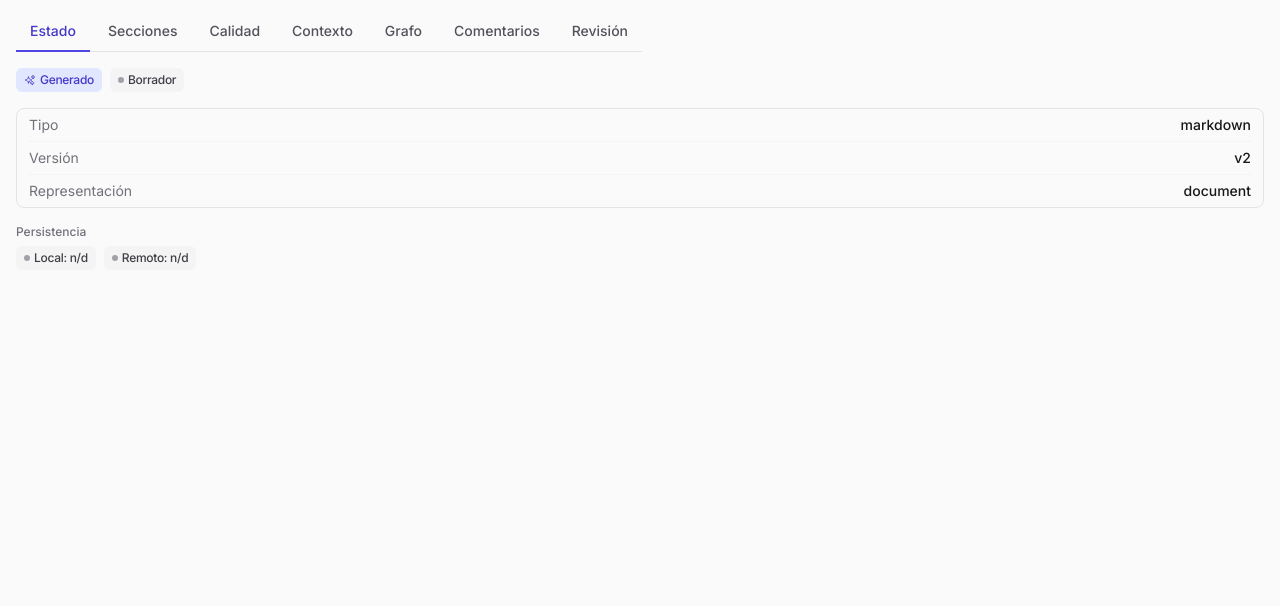
ArtifactInspectorPanel › returns from a section thread to the full outline
Click the tab "Secciones" at (143, 32), box x1=94 y1=12 x2=192 y2=52
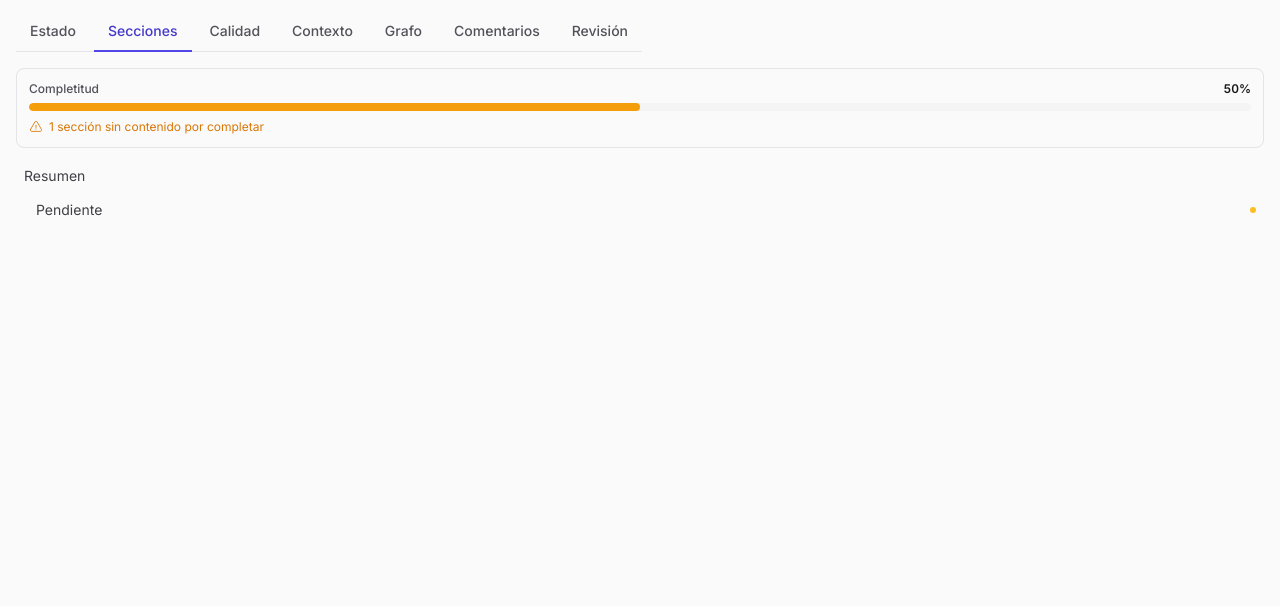
Click the button "Resumen" at (55, 176), box x1=16 y1=160 x2=1264 y2=192
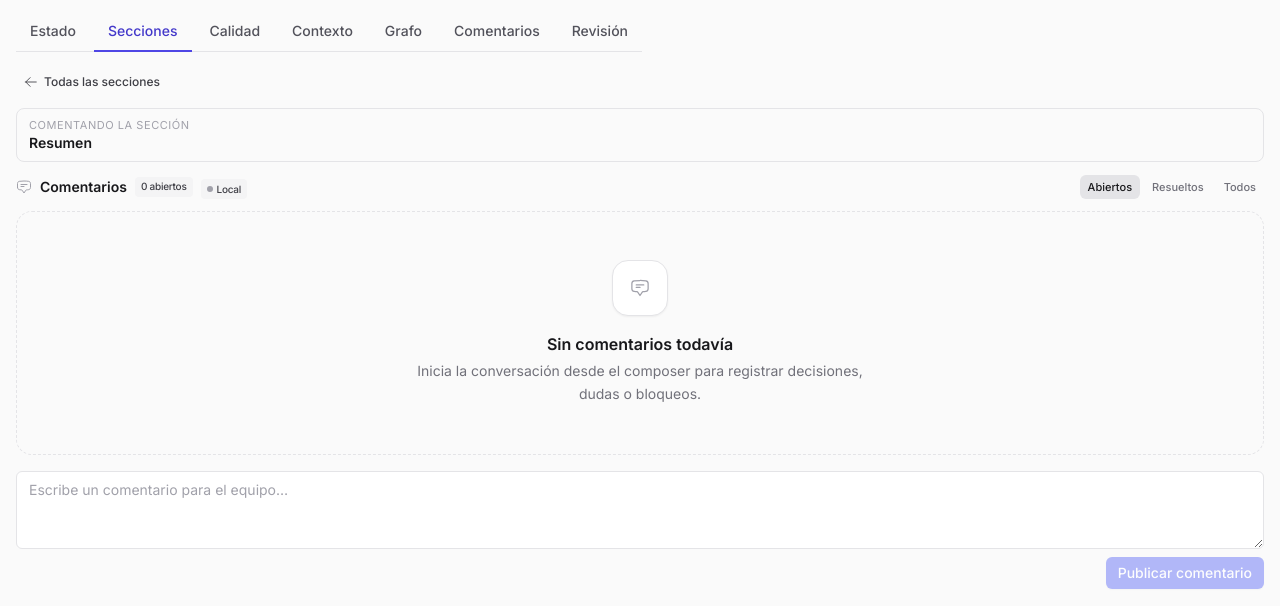
Click the button "Todas las secciones" at (92, 82), box x1=16 y1=68 x2=168 y2=96
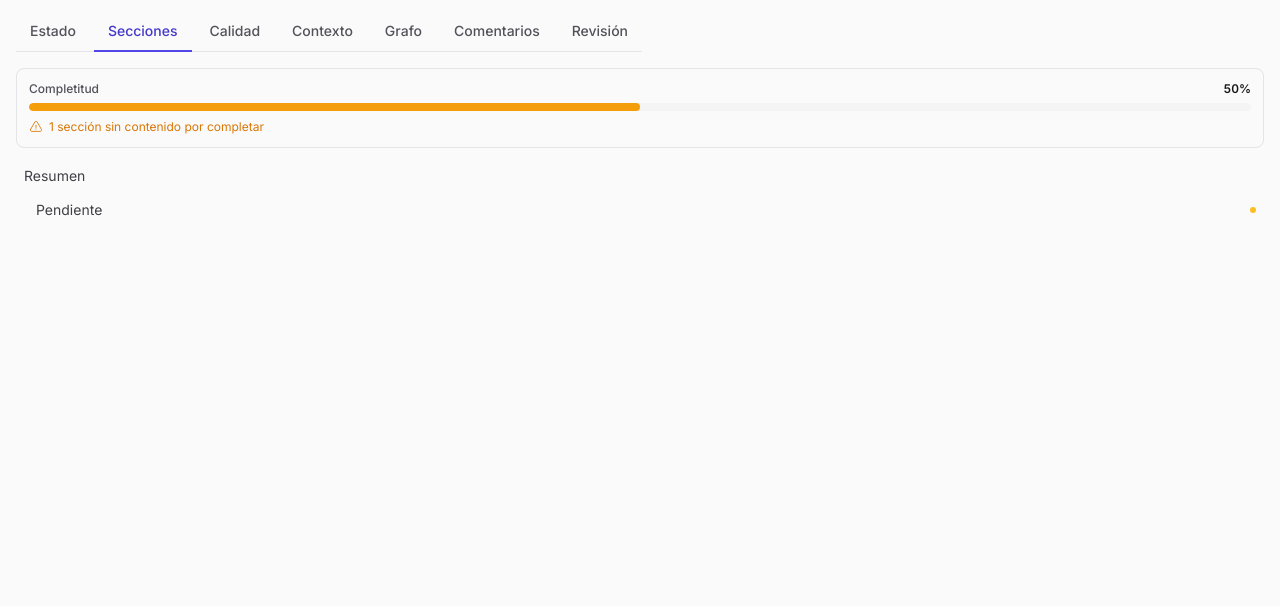
Expected: the progress indicator is shown, x1=29 y1=103 x2=1251 y2=111
